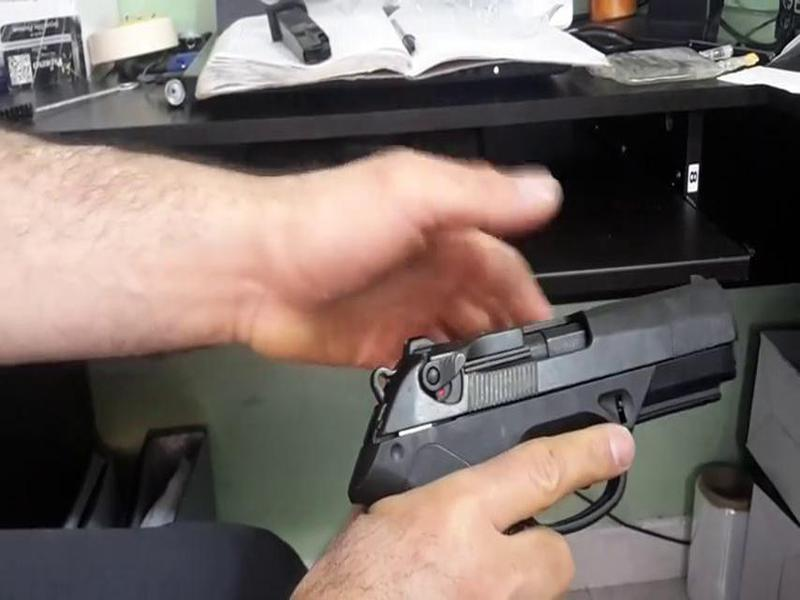Pistola: (322, 264, 774, 544)
